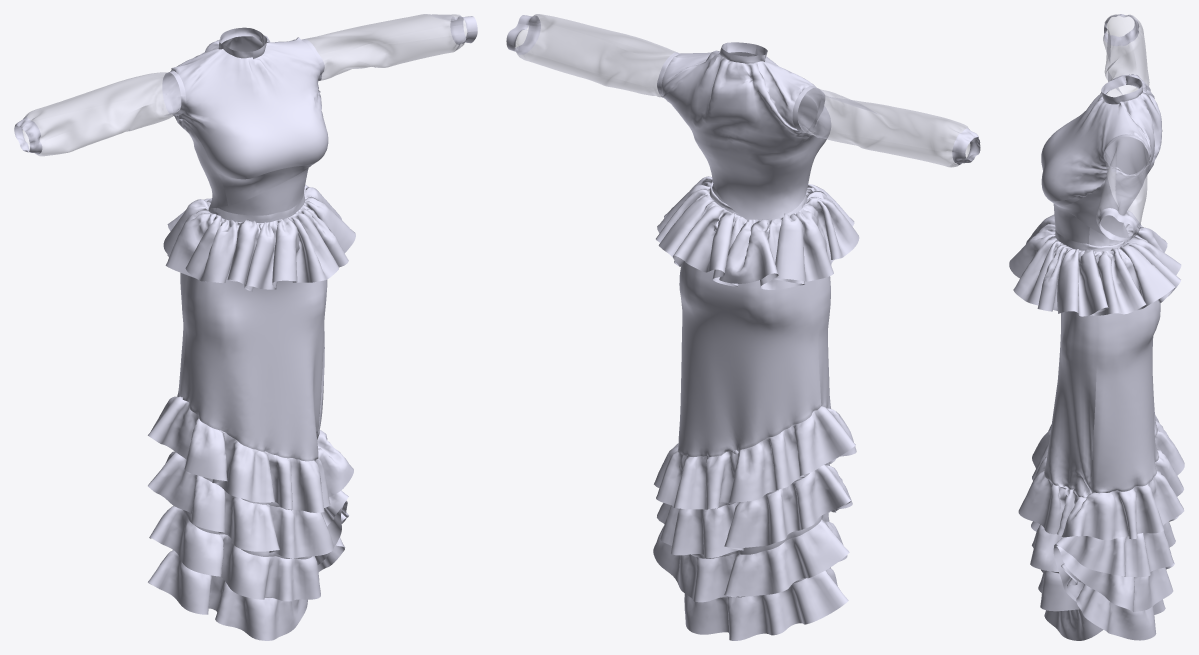
File: G_lavender.glb
3 renders of one model, left to right at view 1: azimuth 30°, elevation 25°; view 2: azimuth 150°, elevation 25°; view 3: azimuth 270°, elevation 25°, orthographic. The views are drawn at different scales.
Visible parts, largest first — view 1: Garment; view 2: Garment; view 3: Garment.
Boxes of the visible parts, <box> form: Garment: <box>14,14,477,640</box>; Garment: <box>506,14,980,640</box>; Garment: <box>1009,14,1184,640</box>.
Bounding box in the file's own units: 1.15 × 1.41 × 0.4118.
Materials: 1 (1 with a texture image).
